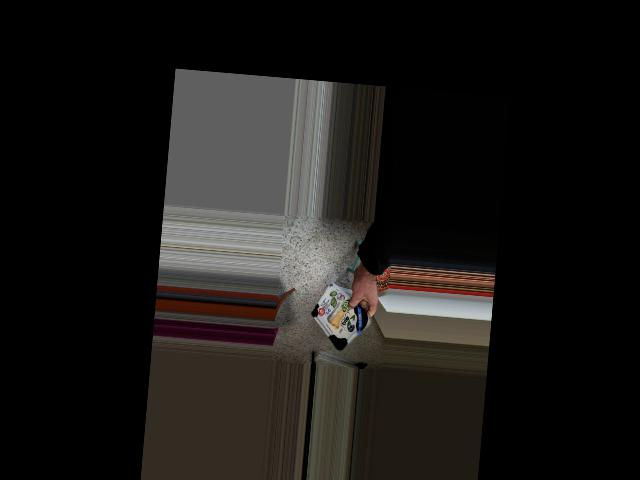cheese: (305, 290, 386, 345)
